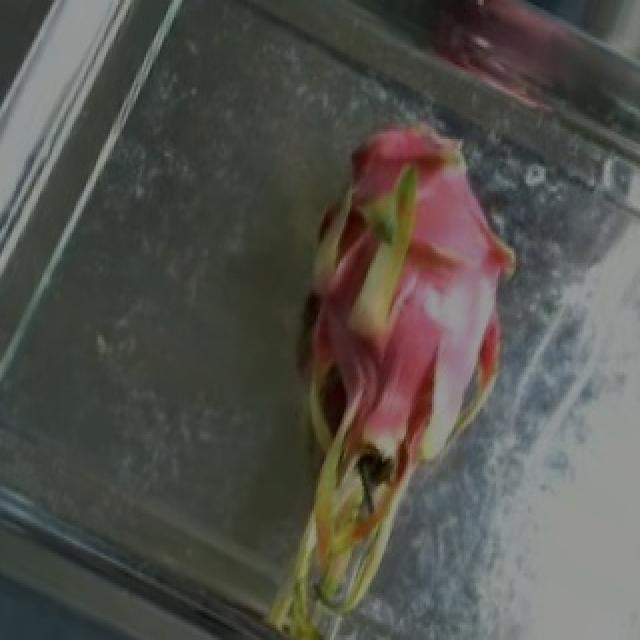fruit: (184, 72, 582, 513)
